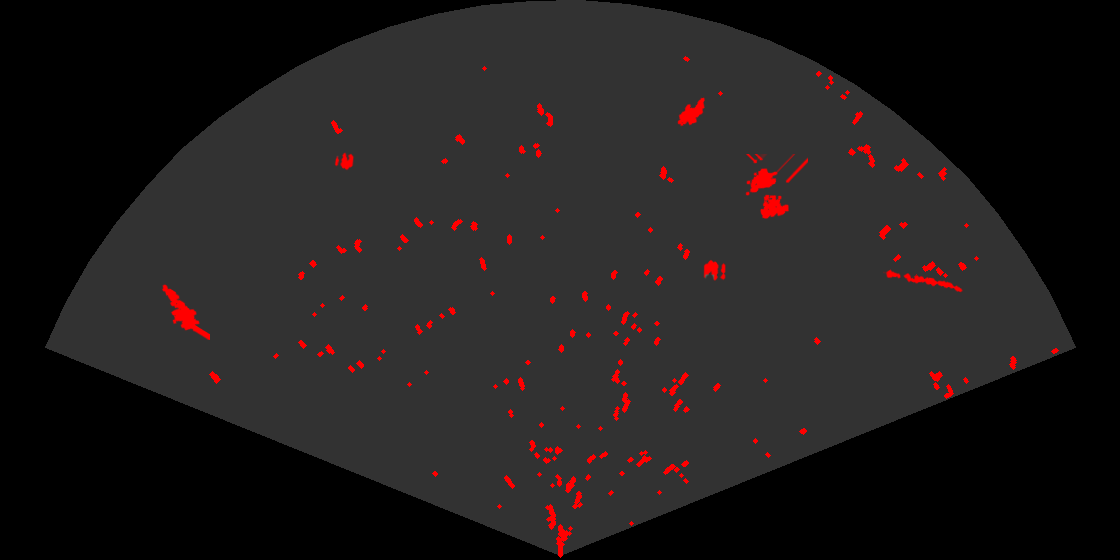AUV: (676, 96, 706, 128)
ball: (702, 258, 727, 282), (333, 151, 356, 172)
cage: (744, 154, 808, 221)
chain: (883, 268, 965, 294)
frogman: (160, 283, 210, 340)
